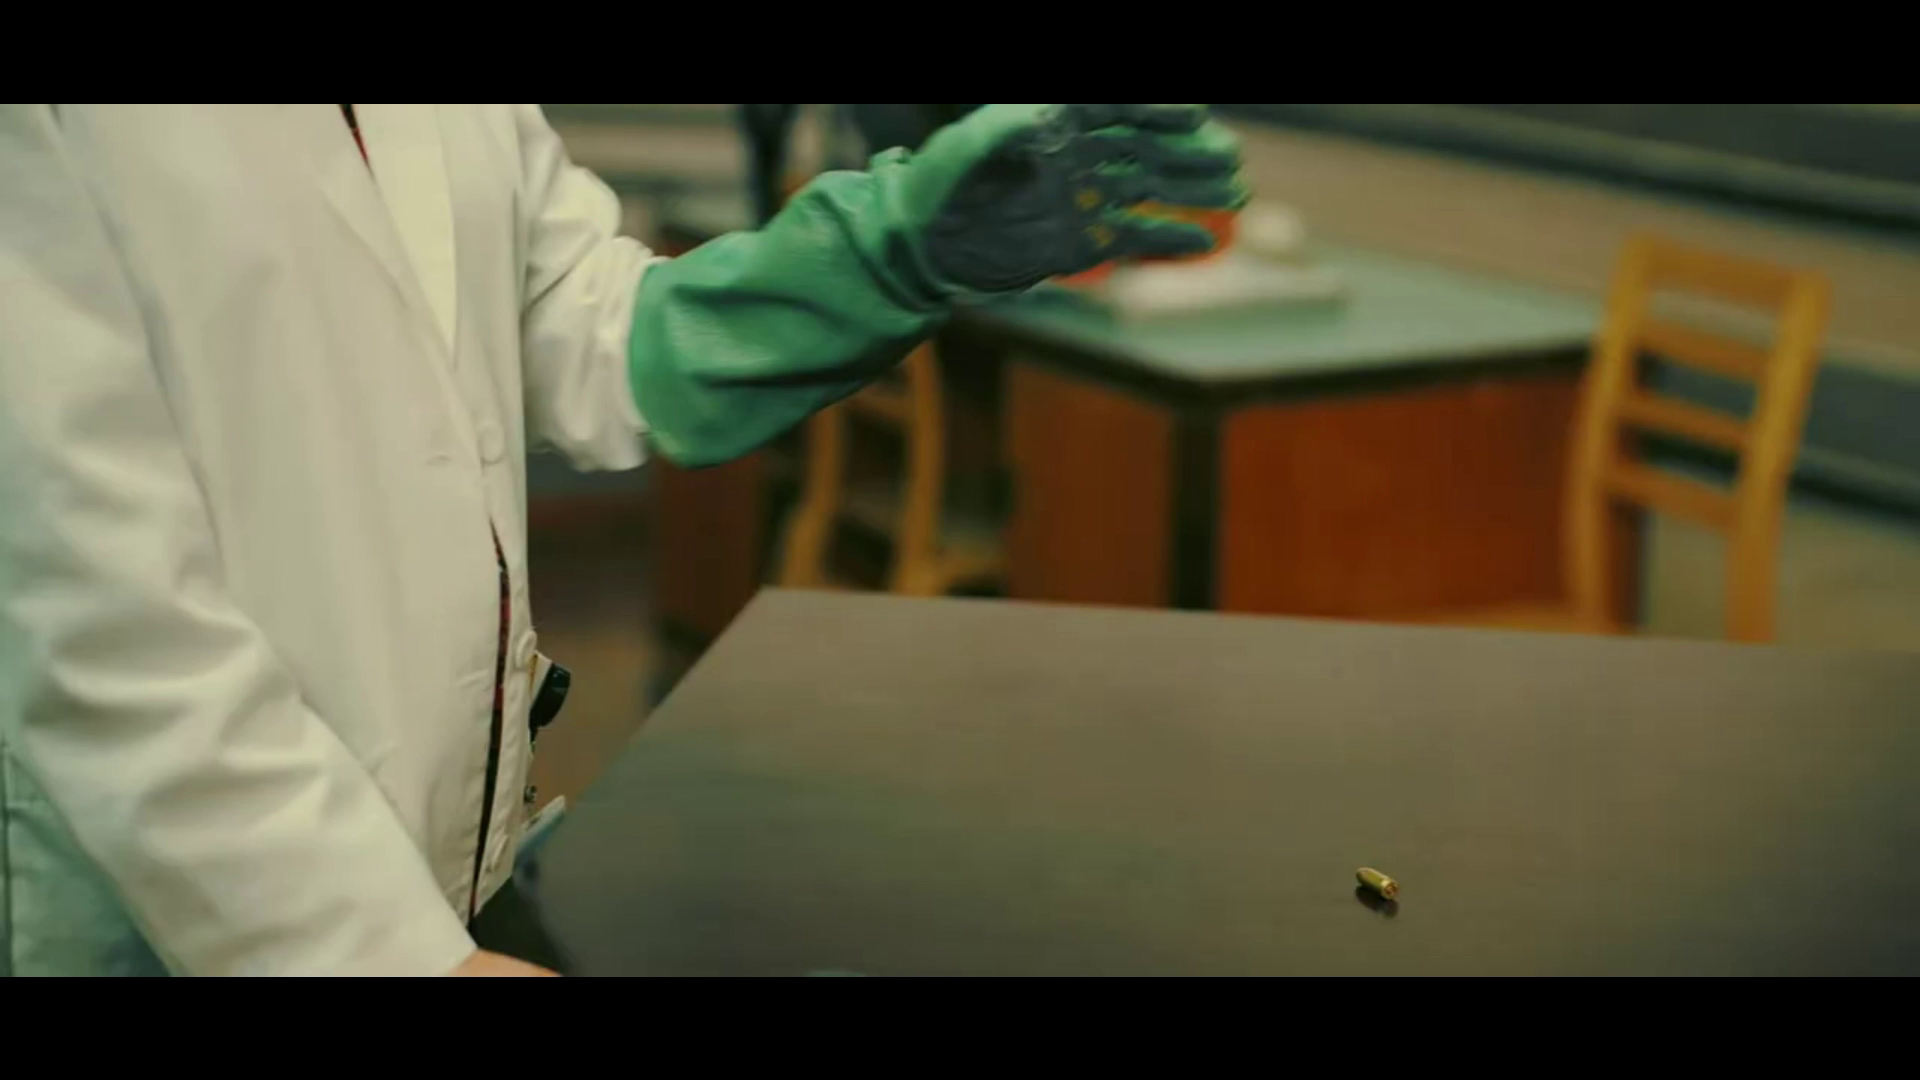Bullet: (1348, 866, 1402, 907)
